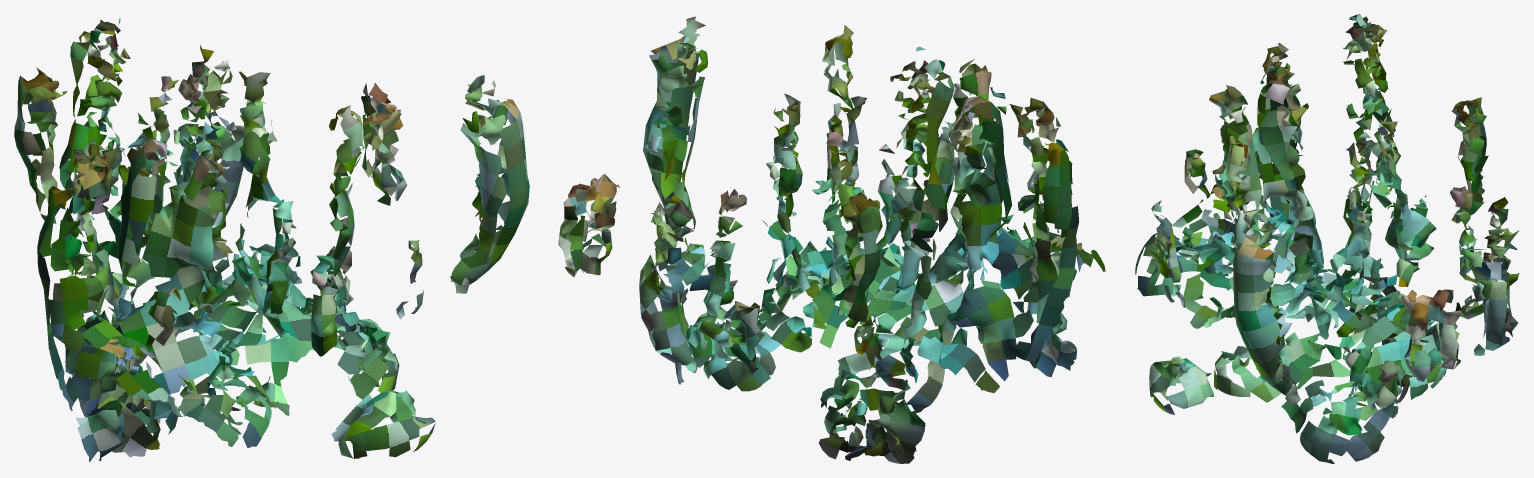
Rendered from euphorbia.obj.
3 views of the same model, side by side, from view 1: azimuth 30°, elevation 25°; view 2: azimuth 150°, elevation 25°; view 3: azimuth 270°, elevation 25° (orthographic). The views are drawn at different scales.
Size of the model in its own units: 2.68 by 2.46 by 2.31.
1 material, 1 textured.
